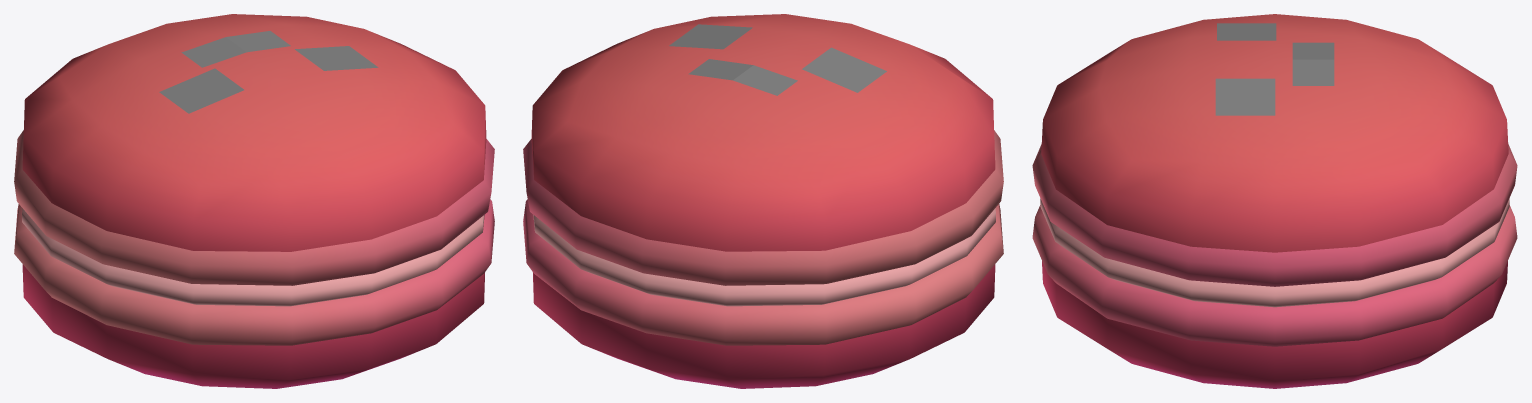
The model's file is macaron_red_smile.fbx.
3 views of the same model, side by side, from view 1: azimuth 30°, elevation 25°; view 2: azimuth 150°, elevation 25°; view 3: azimuth 270°, elevation 25° (orthographic).
Parts seen in each view (by area): view 1: macaron_red, smile; view 2: macaron_red, smile; view 3: macaron_red, smile.
Boxes of the visible parts, x1,y1,x2,y2 form: macaron_red: (14, 14, 494, 388); smile: (159, 31, 378, 113); macaron_red: (523, 14, 1003, 388); smile: (669, 24, 886, 95); macaron_red: (1032, 14, 1517, 388); smile: (1215, 23, 1334, 115).
Size of the model in its own units: 18.89 by 18.89 by 12.1.
Materials: 2 (1 with a texture image).
